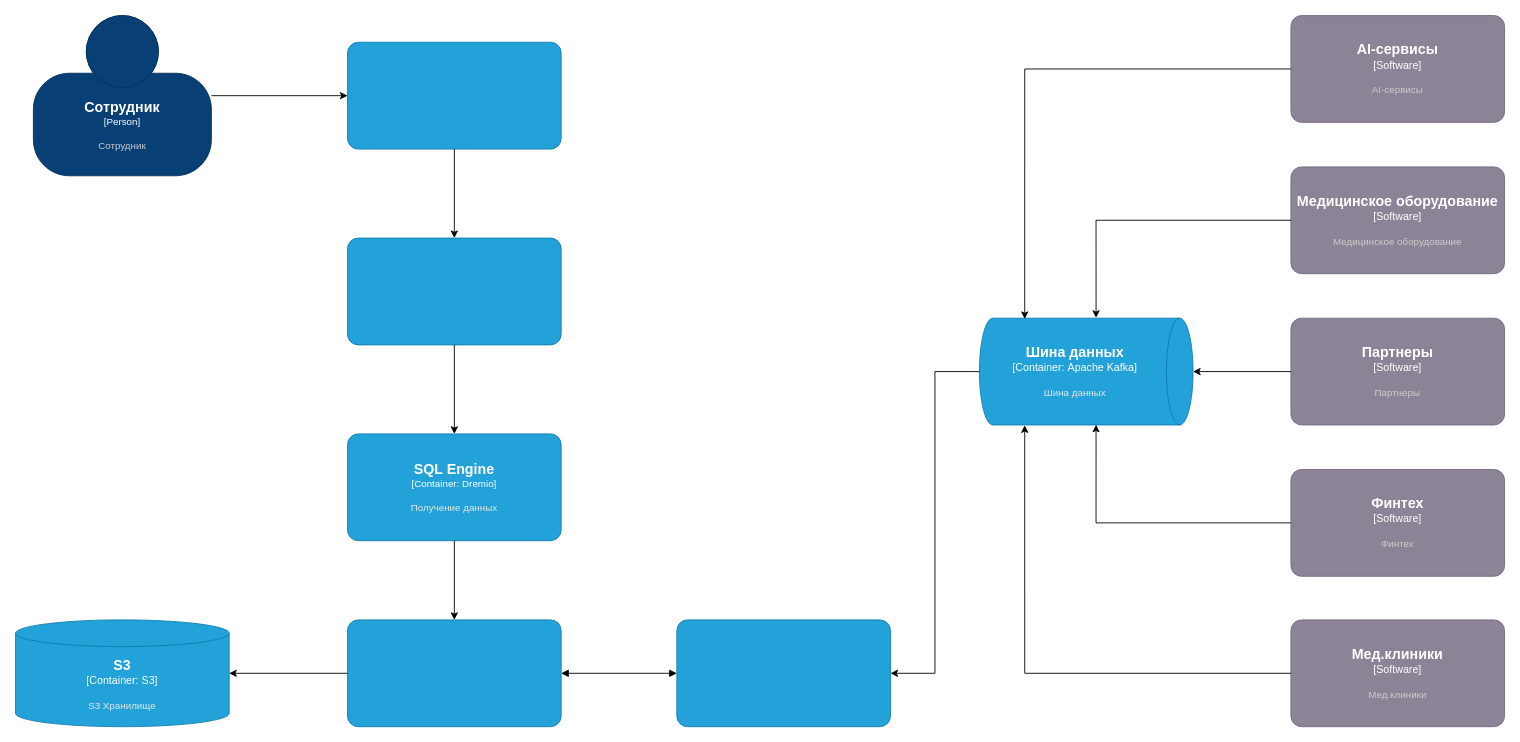
The diagram is 1520 pixels wide and 742 high, and some of its shapes have lost their labels. The shapes that lost their labels are listed below. From the top down, each one's centre as x and y in pixels, then its label:
pixel 454 95: Портал самообслуживания [Container: React] Портал самообслуживания
pixel 454 291: API [Container: DataHub] Поиск, RBAC
pixel 454 673: Iceberg Catalog [Container: Iceberg] Хранение данных
pixel 783 673: Обработка данных [Container: Apache Spark] Обработка данных
